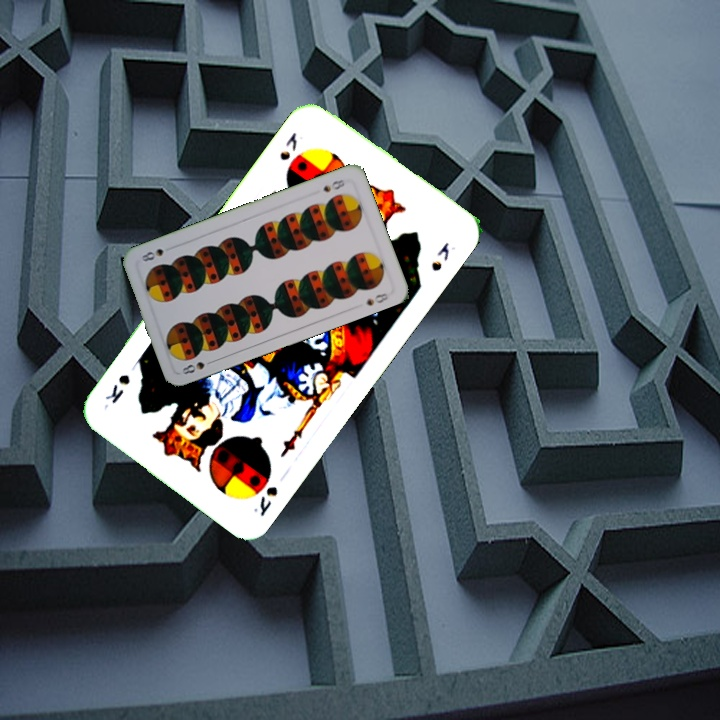S8: (178, 356, 217, 377), (319, 175, 347, 195)
SK: (249, 482, 281, 519), (275, 127, 300, 164)
